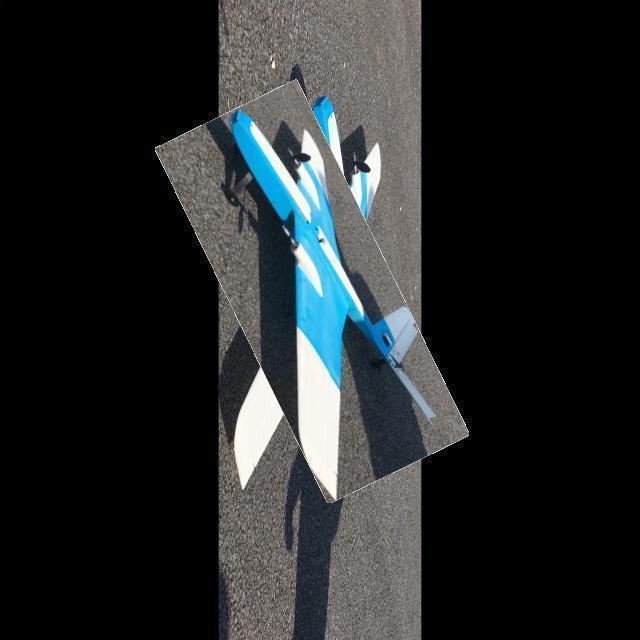iha: (168, 112, 443, 476)
